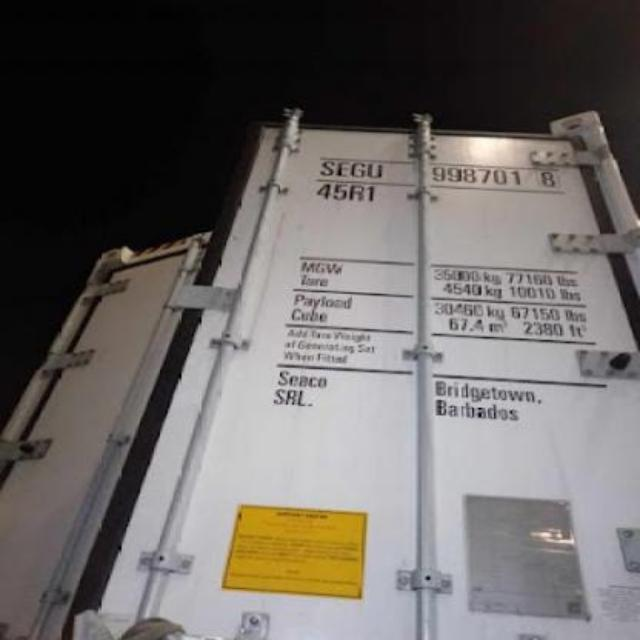0: (494, 165, 508, 189)
1: (508, 163, 528, 190)
7: (476, 163, 494, 187)
8: (464, 165, 480, 188), (538, 170, 558, 188)
9: (430, 160, 448, 184), (448, 163, 462, 181)
E: (336, 156, 349, 178)
G: (351, 156, 364, 180)
S: (316, 156, 334, 178)
U: (366, 158, 386, 180)
